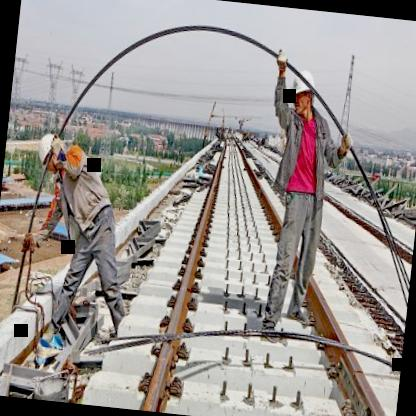helmet: (284, 66, 320, 122), (34, 126, 67, 174)
